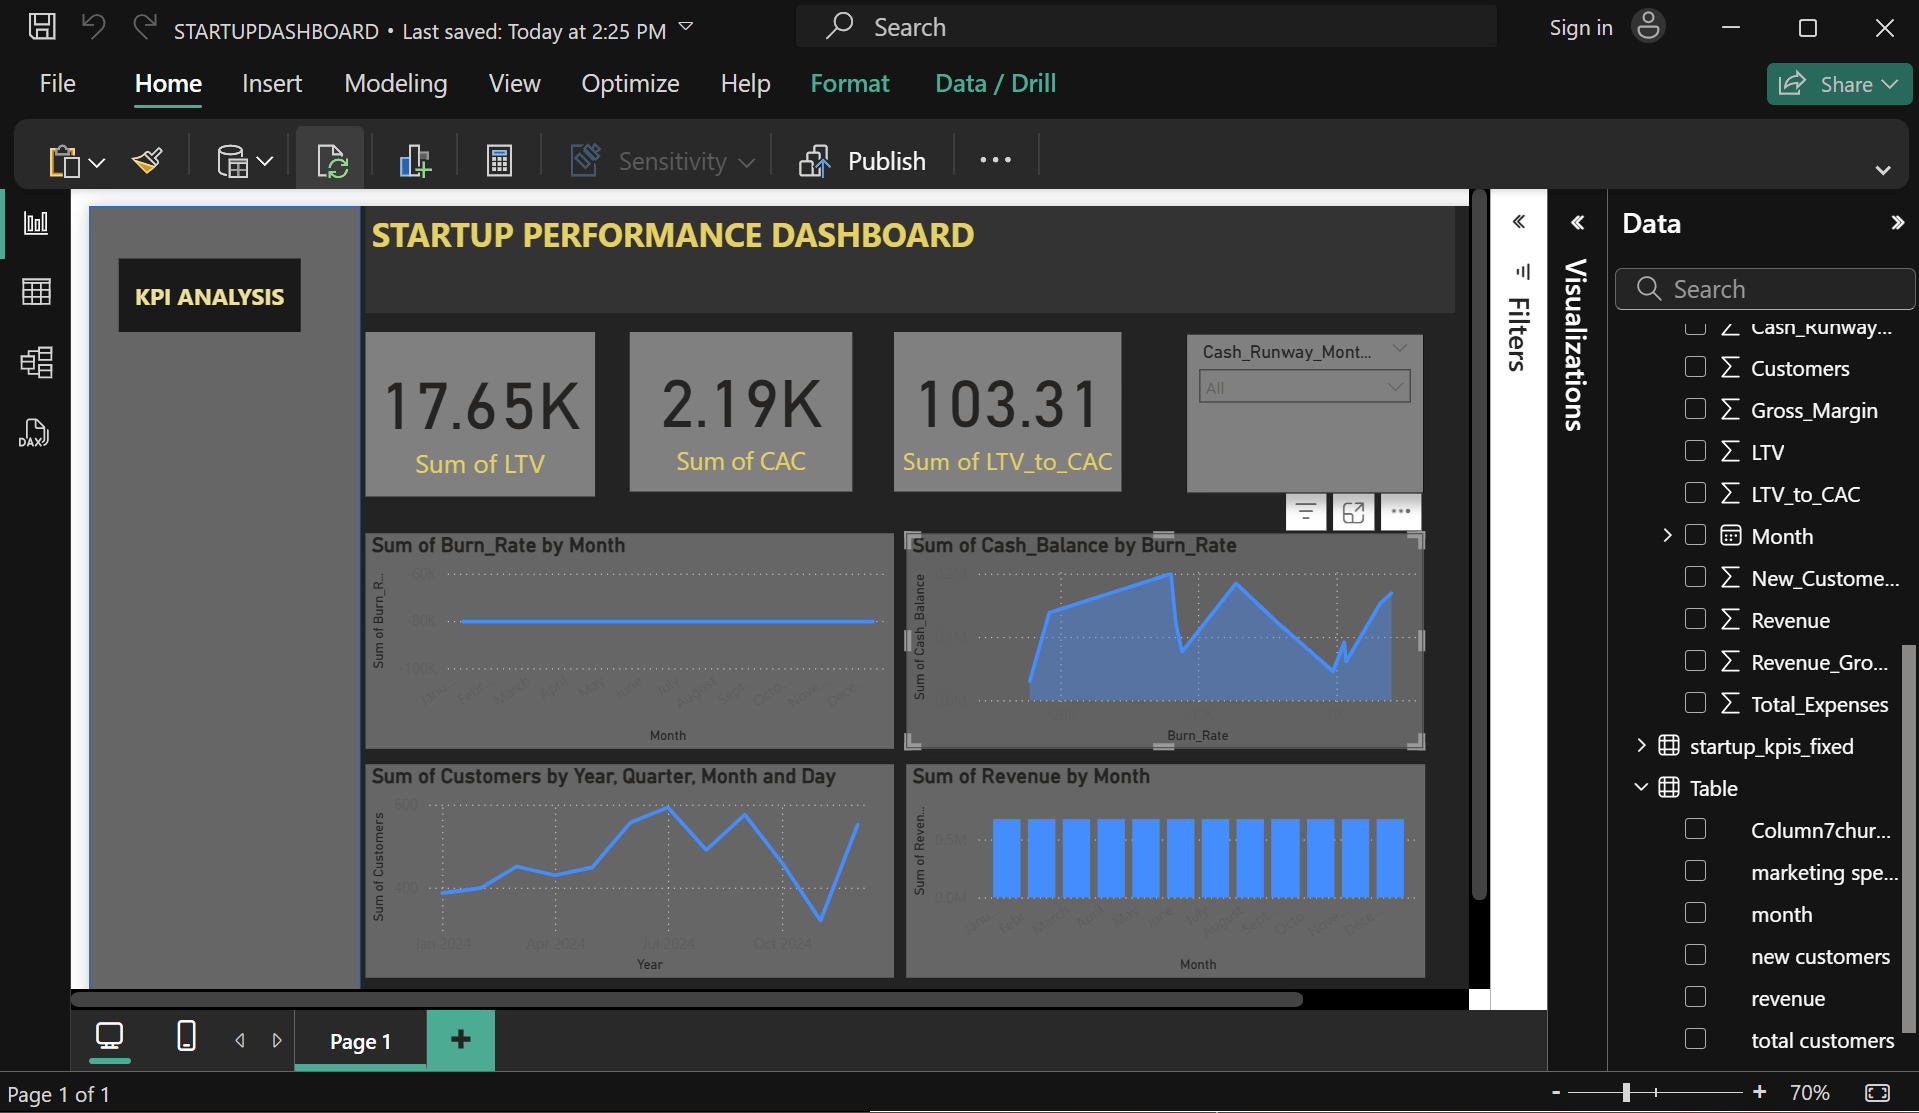

Layout of this report page (visuals, bound fields, positions):
{"tool":"powerbi","page":{"name":"Page 1","canvas":[1280,720],"ordinal":0},"visuals":[{"type":"shape","box":[0,0,221.4,720],"z":0},{"type":"textbox","box":[225.7,0,888.6,87.1],"z":1000},{"type":"card","fields":{"Values":["Sum(startup_kpis_final.LTV)"]},"box":[225.7,102.9,187.1,134.3],"z":2000},{"type":"card","fields":{"Values":["Sum(startup_kpis_final.CAC)"]},"box":[441.4,102.9,181.4,130],"z":3000},{"type":"lineChart","fields":{"Category":["financial_kpisnew.signup_month.Variation.Date Hierarchy.Month"],"Y":["Sum(startup_kpis_final.Burn_Rate)"]},"box":[225.7,267.1,431.4,175.7],"z":4000},{"type":"lineChart","fields":{"Category":["startup_kpis_final.Month.Variation.Date Hierarchy.Year","startup_kpis_final.Month.Variation.Date Hierarchy.Quarter","startup_kpis_final.Month.Variation.Date Hierarchy.Month","startup_kpis_final.Month.Variation.Date Hierarchy.Day"],"Y":["Sum(startup_kpis_final.Customers)"]},"box":[225.7,455.7,431.4,174.3],"z":5000},{"type":"card","fields":{"Values":["Sum(startup_kpis_final.LTV_to_CAC)"]},"box":[657.1,102.9,185.7,130],"z":6000},{"type":"areaChart","fields":{"Y":["Sum(startup_kpis_final.Cash_Balance)"],"Category":["startup_kpis_final.Burn_Rate"]},"box":[667.1,267.1,421.4,175.7],"z":6001},{"type":"columnChart","fields":{"Category":["financial_kpisnew.revenue_month.Variation.Date Hierarchy.Month"],"Y":["Sum(startup_kpis_final.Revenue)"]},"box":[667.1,455.7,422.9,174.3],"z":6002},{"type":"shape","box":[24.3,42.9,148.6,60],"z":6003},{"type":"slicer","fields":{"Values":["startup_kpis_final.Cash_Runway_Months","startup_kpis_final.Month"]},"box":[895.7,104.3,192.9,130],"z":6004}]}

Visuals, with their boxes on the page's 1280x720 design canvas (x1, y1, x2, y2). These are canvas units, not pixel positions in the 1919x1113 screenshot, which may show the page scaled, cropped or inside an application window:
shape: [0, 0, 221, 720]
textbox: [226, 0, 1114, 87]
card - Sum(startup_kpis_final.LTV): [226, 103, 413, 237]
card - Sum(startup_kpis_final.CAC): [441, 103, 623, 233]
lineChart - financial_kpisnew.signup_month.Variation.Date Hierarchy.Month x Sum(startup_kpis_final.Burn_Rate): [226, 267, 657, 443]
lineChart - startup_kpis_final.Month.Variation.Date Hierarchy.Year x startup_kpis_final.Month.Variation.Date Hierarchy.Quarter: [226, 456, 657, 630]
card - Sum(startup_kpis_final.LTV_to_CAC): [657, 103, 843, 233]
areaChart - Sum(startup_kpis_final.Cash_Balance) x startup_kpis_final.Burn_Rate: [667, 267, 1088, 443]
columnChart - financial_kpisnew.revenue_month.Variation.Date Hierarchy.Month x Sum(startup_kpis_final.Revenue): [667, 456, 1090, 630]
shape: [24, 43, 173, 103]
slicer - startup_kpis_final.Cash_Runway_Months x startup_kpis_final.Month: [896, 104, 1089, 234]
